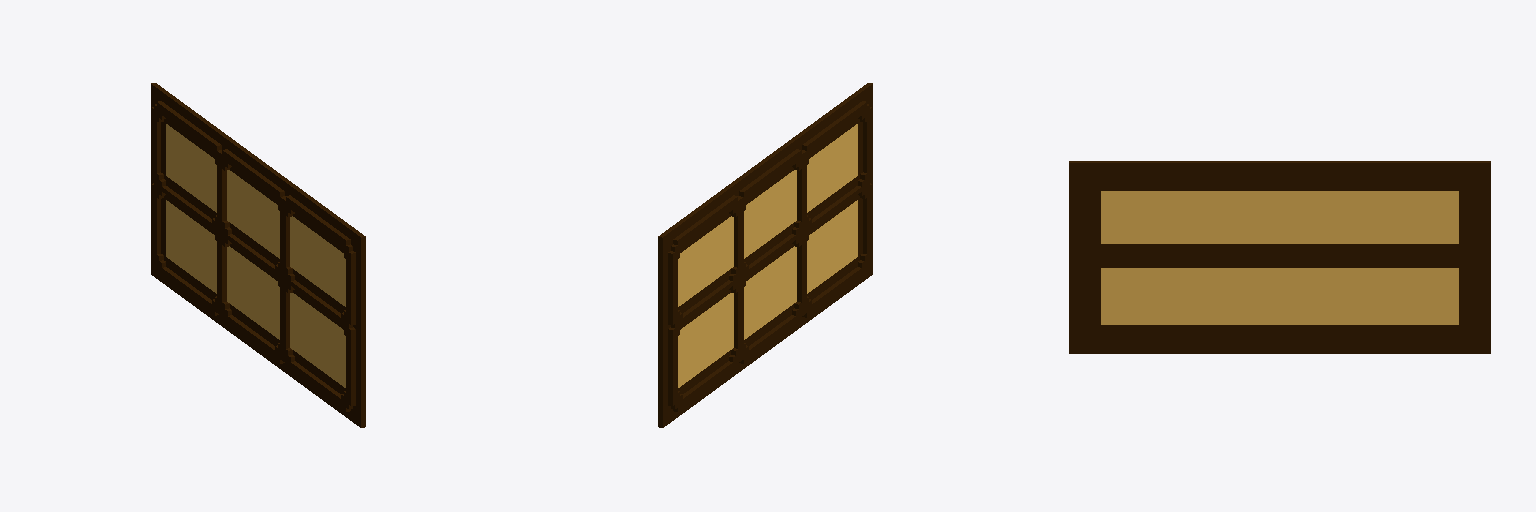
3 renders of one model, left to right at view 1: azimuth 30°, elevation 25°; view 2: azimuth 150°, elevation 25°; view 3: azimuth 270°, elevation 25°, orthographic.
Visible parts, largest first — view 1: object 1; view 2: object 1; view 3: object 1.
Boxes of the visible parts, x1,y1,x2,y2 form: object 1: [151, 83, 365, 427]; object 1: [658, 83, 872, 427]; object 1: [1069, 161, 1490, 353].
Size of the model in its own units: 0.2 by 4 by 8.
1 materials, 1 textured.